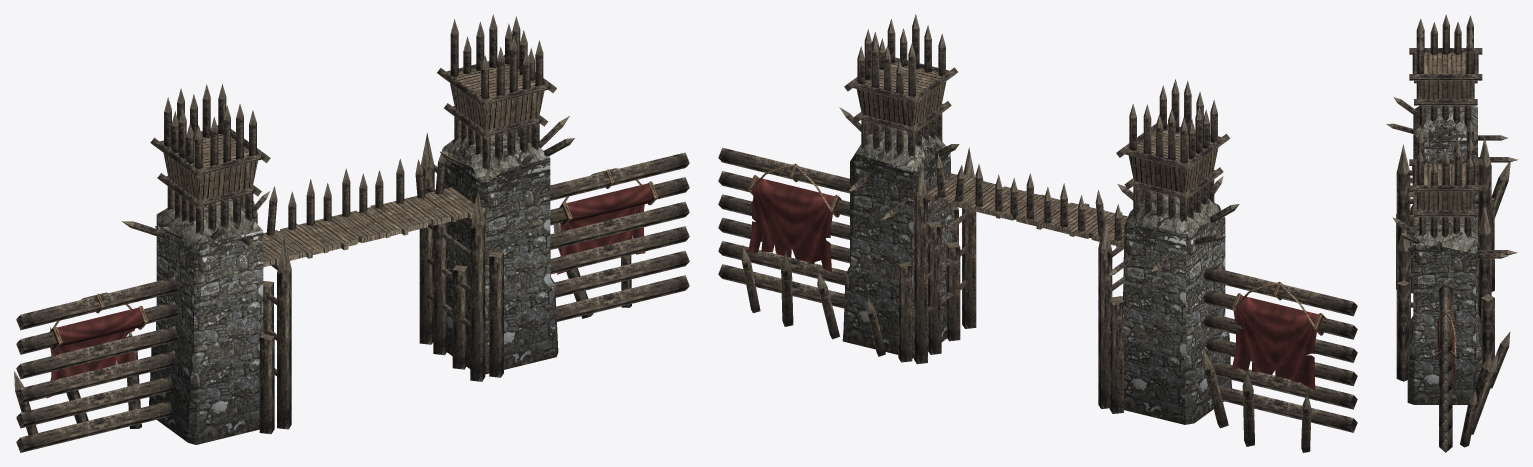
Rendered from SC_yonghengsenlin_FB01_02.FBX.
3 renders of one model, left to right at view 1: azimuth 30°, elevation 25°; view 2: azimuth 150°, elevation 25°; view 3: azimuth 270°, elevation 25°, orthographic. The views are drawn at different scales.
Visible parts, largest first — view 1: SC_yonghengsenlin_FB01_02; view 2: SC_yonghengsenlin_FB01_02; view 3: SC_yonghengsenlin_FB01_02.
Part boxes in pixels (x1,y1,x2,y2): SC_yonghengsenlin_FB01_02: (14,14,689,452); SC_yonghengsenlin_FB01_02: (718,14,1357,452); SC_yonghengsenlin_FB01_02: (1386,14,1518,452).
Size of the model in its own units: 2240 by 1065 by 486.
